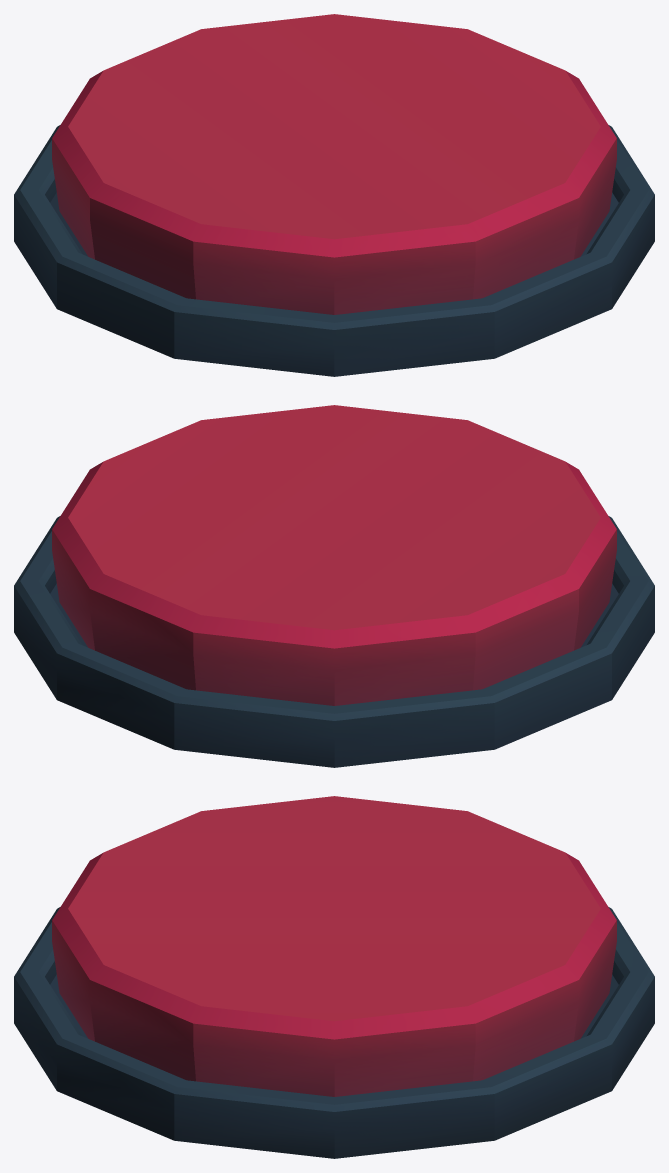
Rendered from buttonUpdate.fbx.
The picture shows the model from 3 angles, top to bottom: view 1: azimuth 30°, elevation 25°; view 2: azimuth 150°, elevation 25°; view 3: azimuth 270°, elevation 25°; orthographic projection.
Visible parts, largest first — view 1: button_UPDATE; view 2: button_UPDATE; view 3: button_UPDATE.
Part boxes in pixels (x1,y1,x2,y2): button_UPDATE: (14,14,654,376); button_UPDATE: (14,405,654,767); button_UPDATE: (14,796,654,1158).
Bounding box in the file's own units: 0.6732 × 0.133 × 0.6732.
